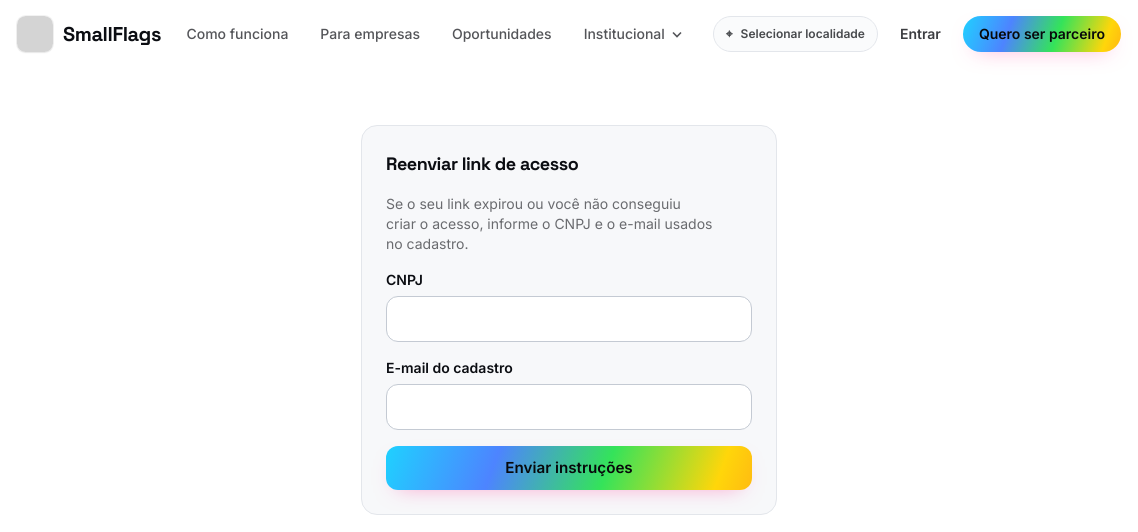
Test: B2 — recuperacao anti-enumeracao › nao revela status interno, contagem de tokens nem identificadores
Type "12.345.678/0001-95" into the field labelled "CNPJ" at [569, 319], box [386,296,752,342]
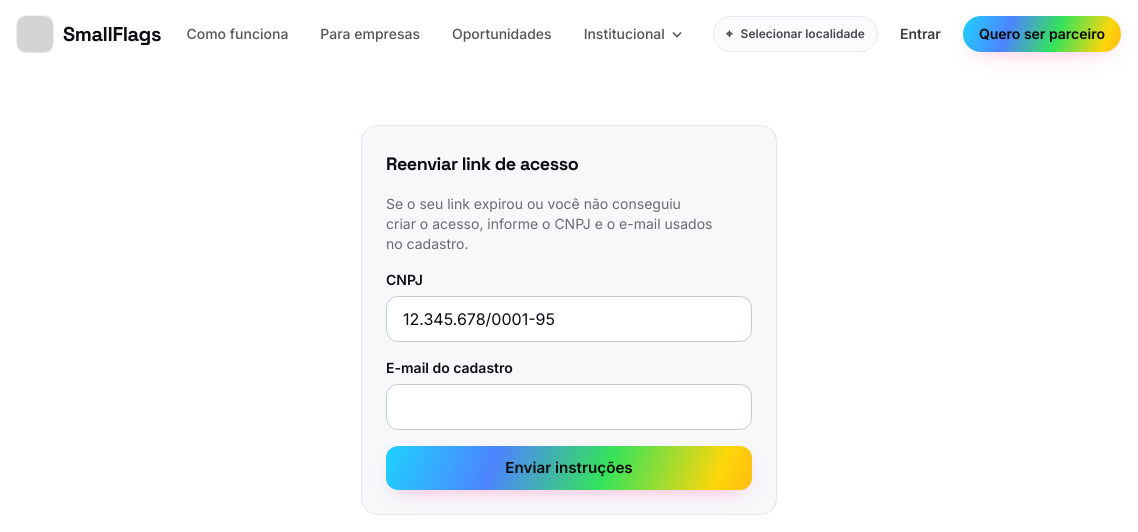
Type "a@b.com.br" into the field labelled "E-mail do cadastro" at [569, 407], box [386,384,752,430]
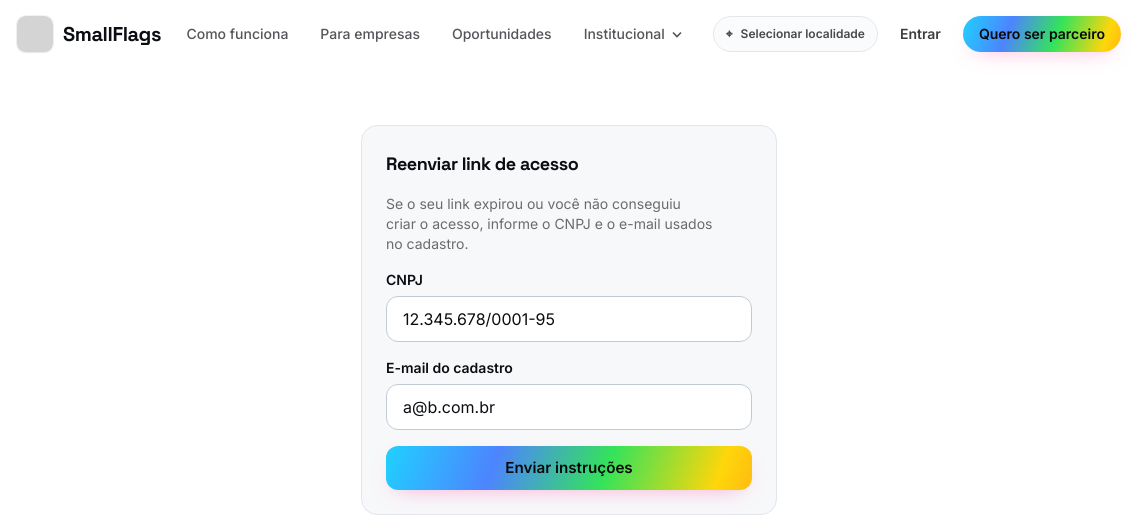
Click the button "Enviar instruções" at [569, 468], box [386,446,752,490]
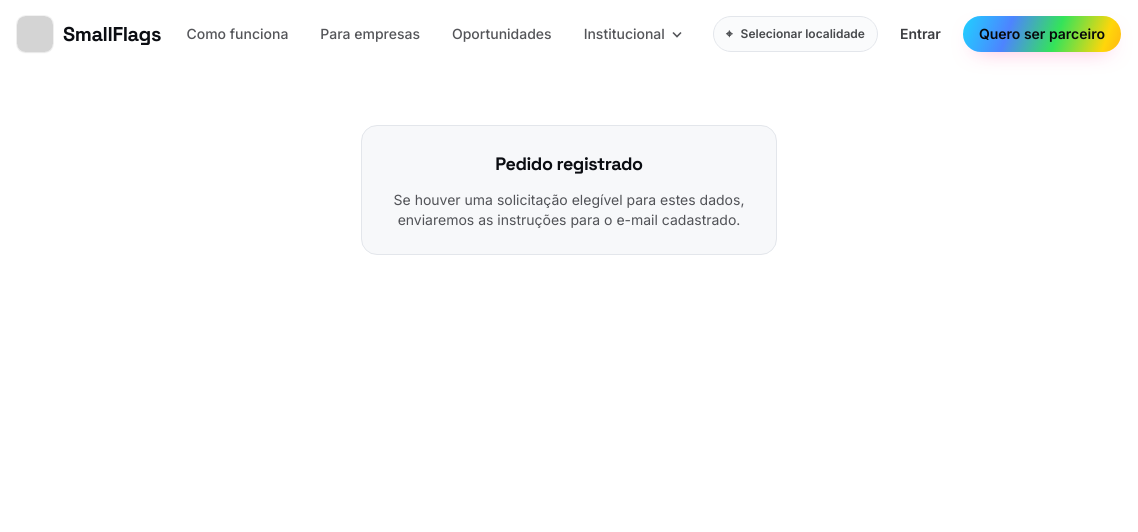
Check: the text "Se houver uma solicitação elegível" is shown, box [394,191,744,228]
